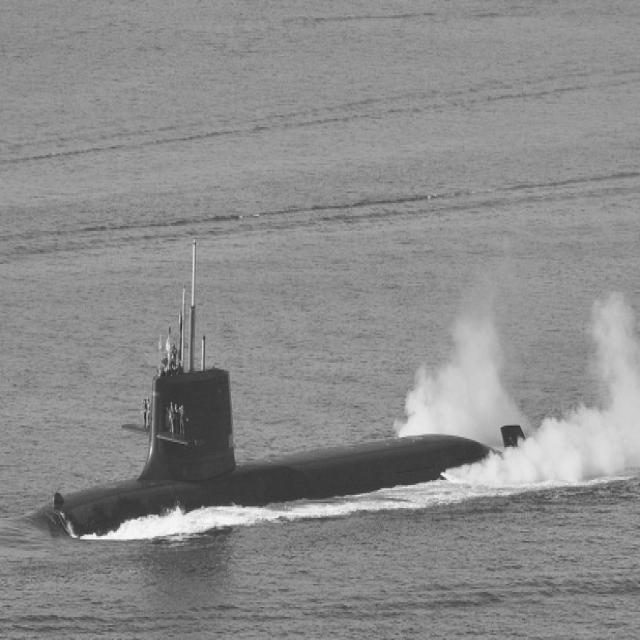submarine: (37, 216, 529, 536)
